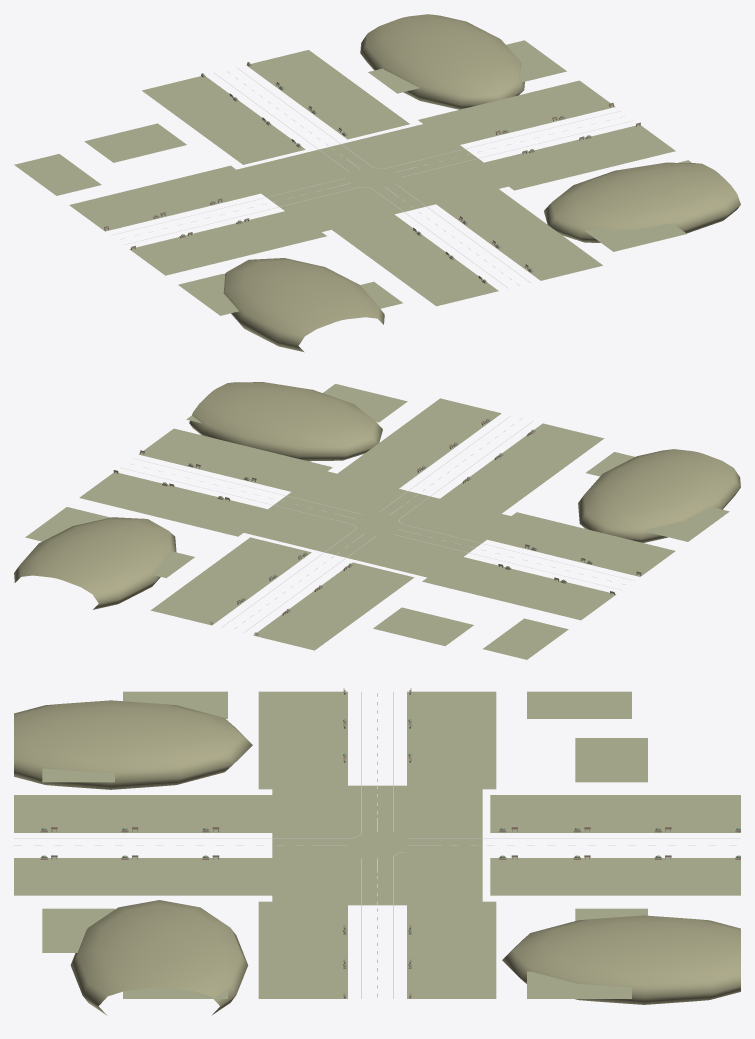
3 renders of one model, top to bottom at view 1: azimuth 30°, elevation 25°; view 2: azimuth 150°, elevation 25°; view 3: azimuth 270°, elevation 25°, orthographic. The views are drawn at different scales.
Visible parts, largest first — view 1: static; view 2: static; view 3: static.
Part boxes in pixels (bbox=[...]): static: bbox=[14, 14, 740, 352]; static: bbox=[14, 382, 740, 659]; static: bbox=[14, 688, 740, 1015].
Size of what is drawn, in the model's own units: 180 by 14.08 by 180.
